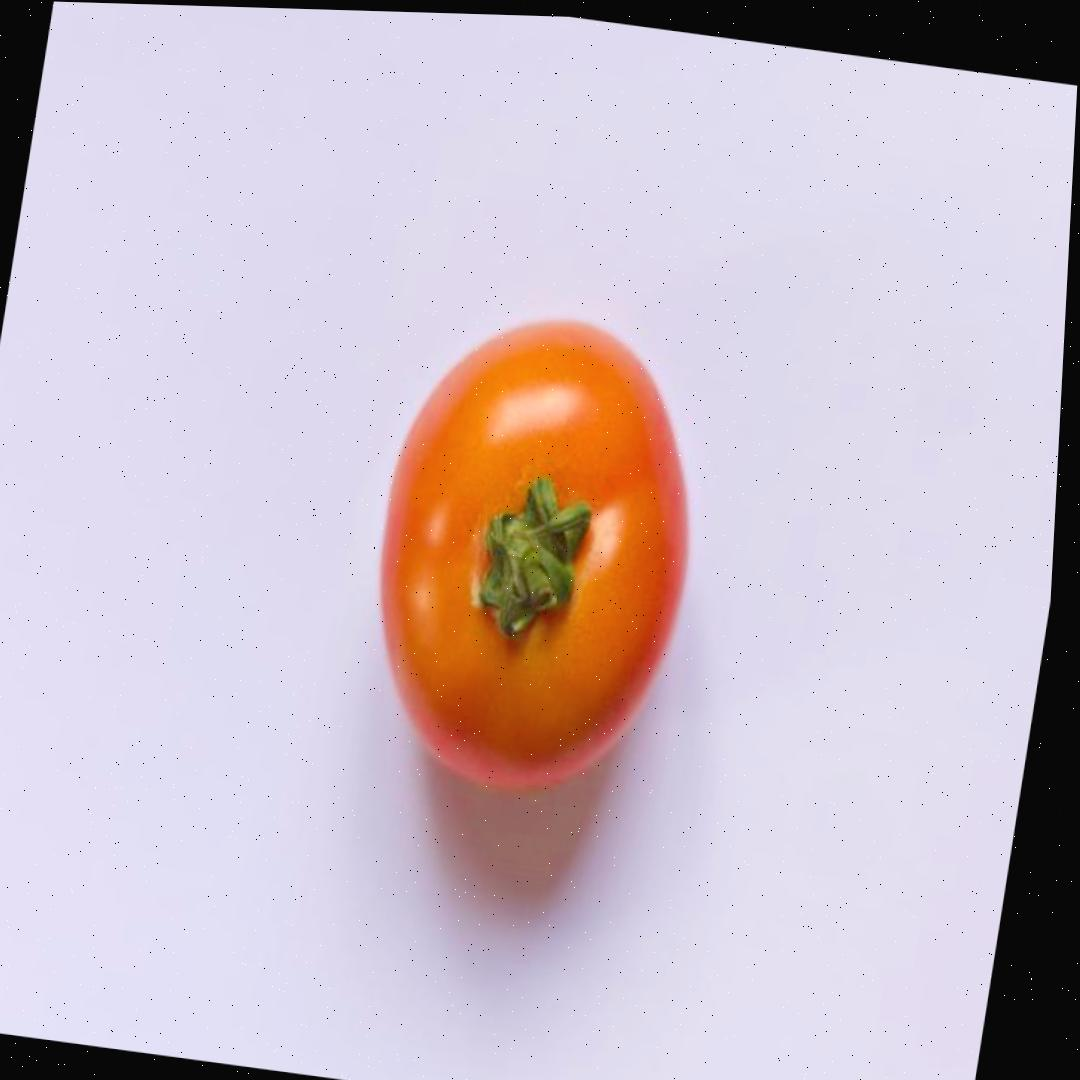matang: (345, 298, 726, 808)
